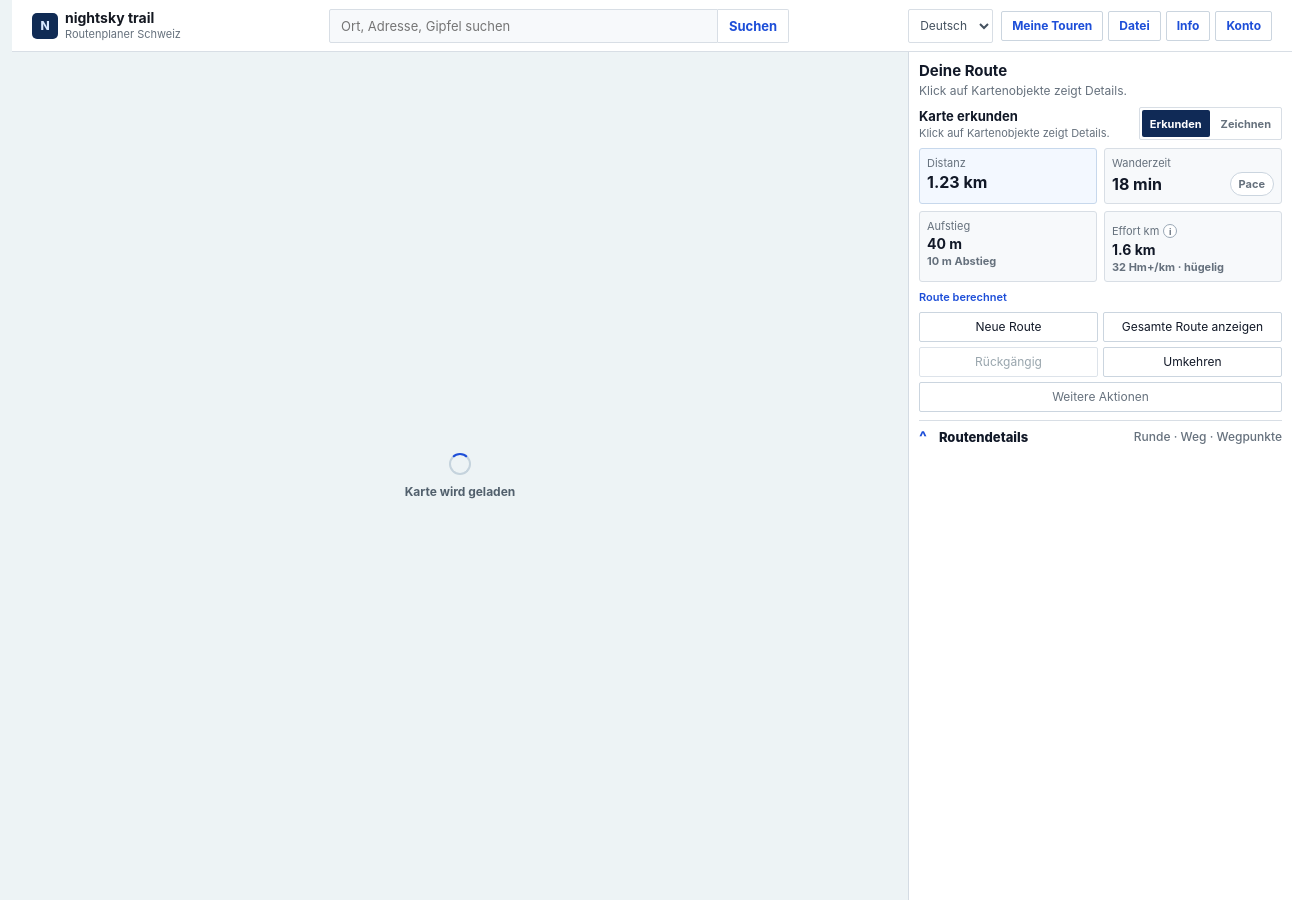
Scenario: App › asks how to export a PDF without offering public sharing for an unsaved tour
This screenshot has width=1292, height=900.
Expected: the text "1.23 km" is shown, [927,172,987,192]
Step 1. Click the button "Datei" → point(1134, 26), box [1108,10,1161,40]
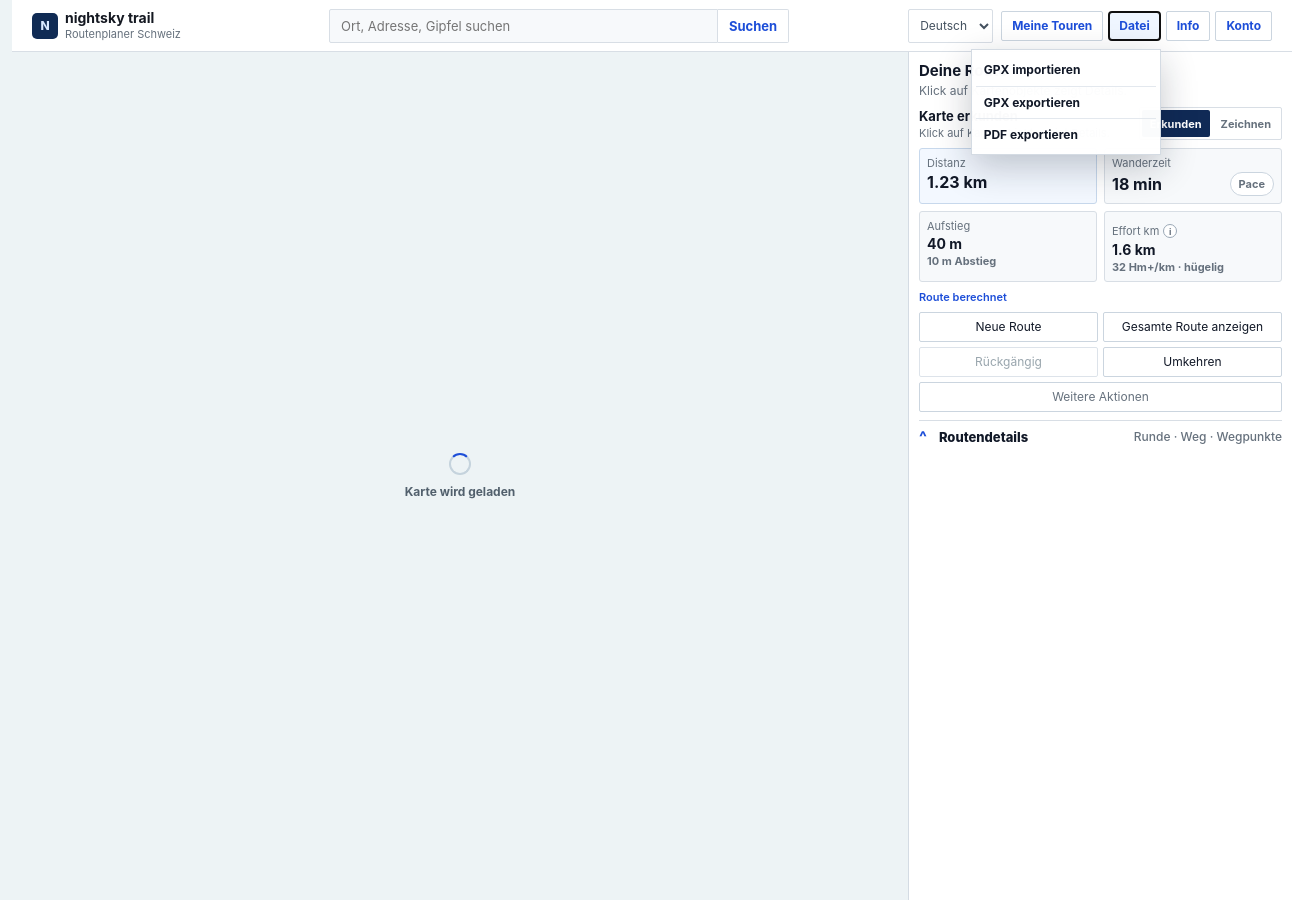
Step 2. Click the button "PDF exportieren" → point(1066, 134), box [976,118,1156,150]
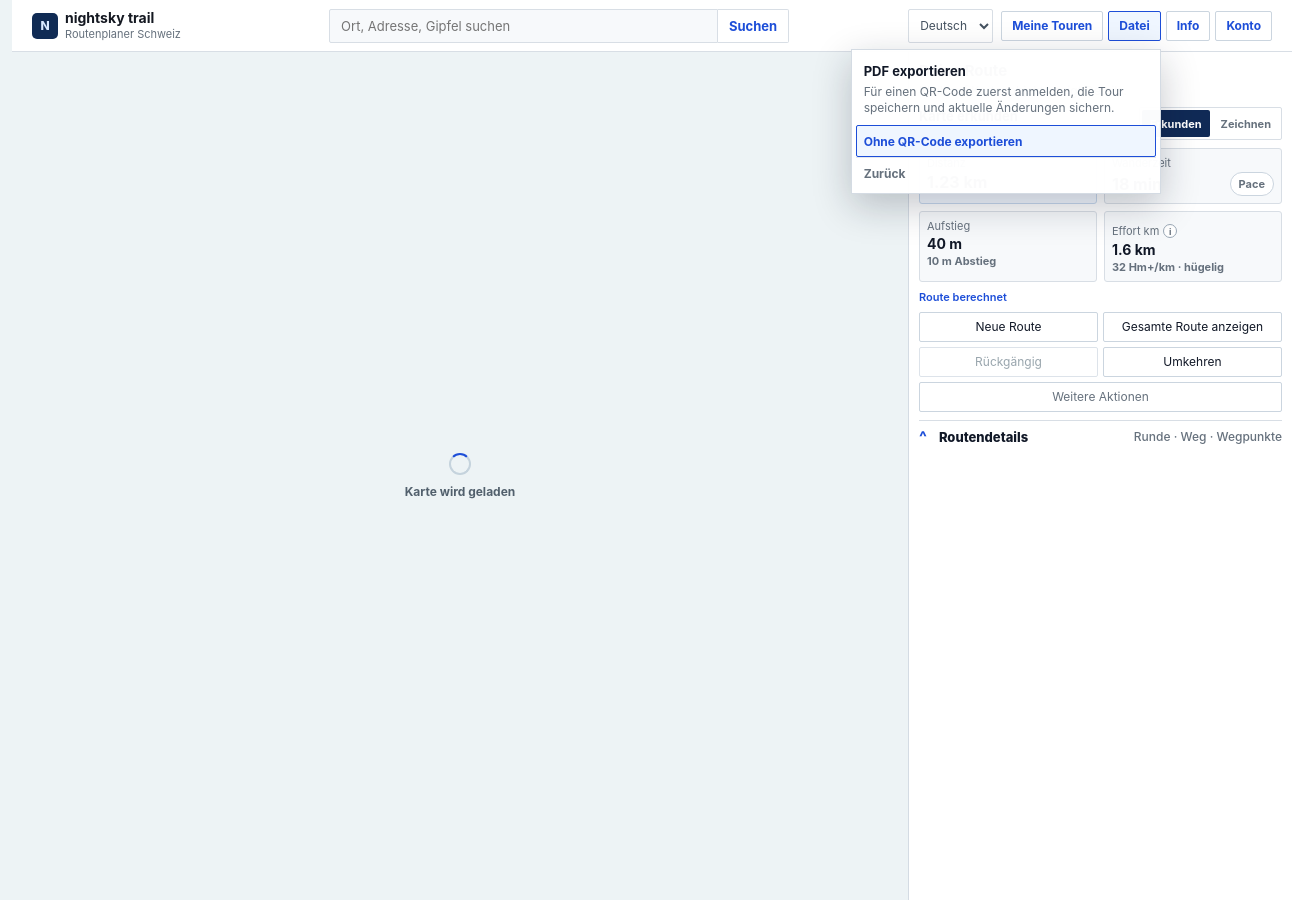
Expected: the button "Ohne QR-Code exportieren" is shown, [856,125,1156,157]
Expected: the text "Für einen QR-Code zuerst anmelden" is shown, [864,84,1124,116]
